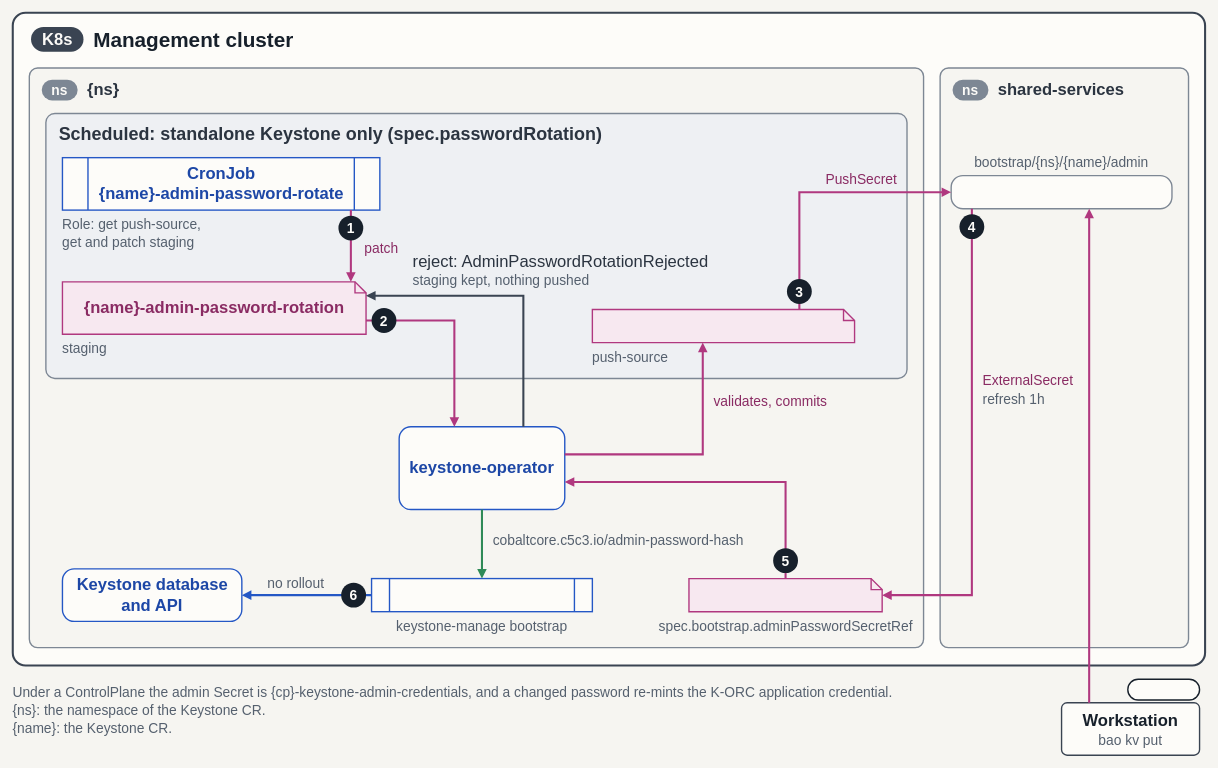
The diagram is 1218 pixels wide and 768 high, and some of its shapes have lost their labels. The box of each missing label's shape, as (x1, y1, x2, y2) in pixels:
admin Secret: (688, 578, 883, 612)
by hand: (1127, 678, 1200, 700)
Job {name}-bootstrap: (371, 578, 593, 612)
OpenBao KV engine: (950, 175, 1172, 209)
{name}-admin-password-next: (591, 308, 855, 343)
